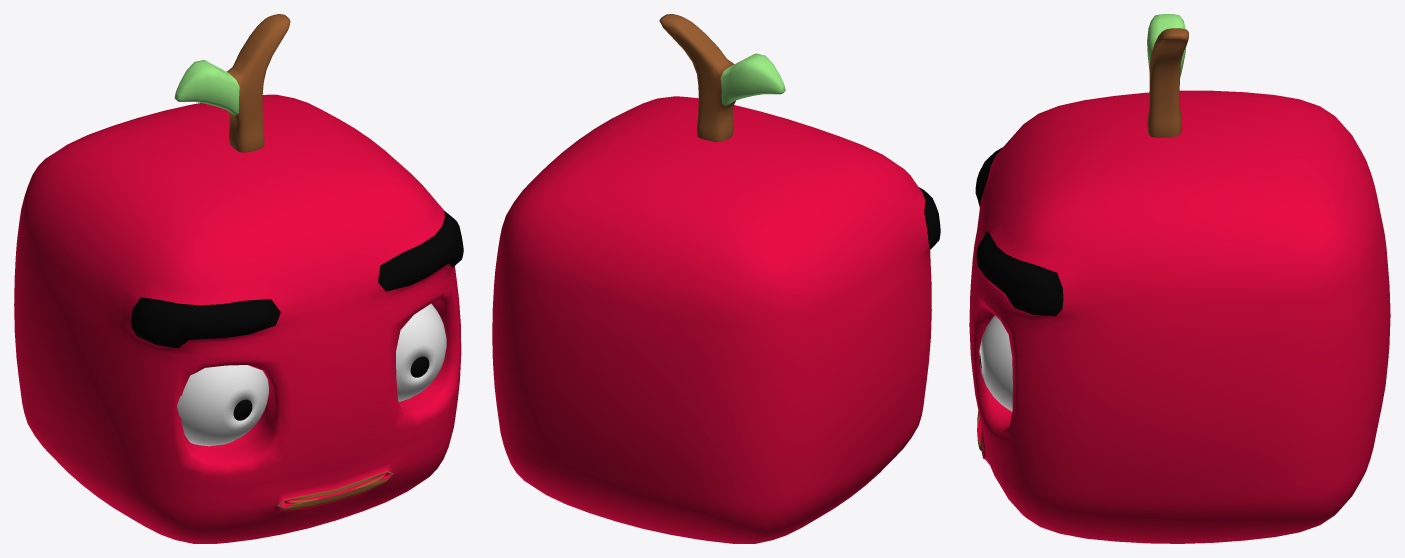
File: apple.fbx
3 views of the same model, side by side, from view 1: azimuth 30°, elevation 25°; view 2: azimuth 150°, elevation 25°; view 3: azimuth 270°, elevation 25° (orthographic). The views are drawn at different scales.
Parts seen in each view (by area): view 1: Apple, eye.R, eye.L; view 2: Apple; view 3: Apple, eye.L.
Part boxes in pixels (x1,y1,x2,y2): Apple: (14,14,463,543); eye.R: (177,365,268,446); eye.L: (396,303,446,401); Apple: (492,14,940,543); Apple: (969,14,1390,543); eye.L: (979,315,1012,411).
Bounding box in the file's own units: 150 × 193 × 148.
